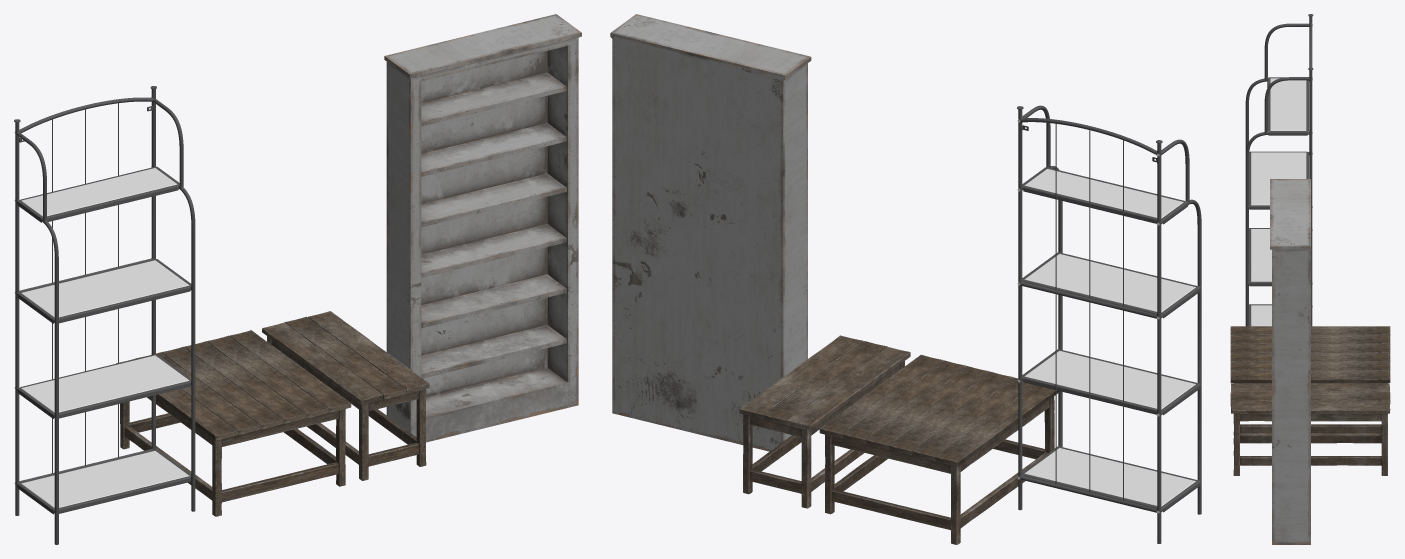
Rendered from Dottopuspornogang.fbx.
3 views of the same model, side by side, from view 1: azimuth 30°, elevation 25°; view 2: azimuth 150°, elevation 25°; view 3: azimuth 270°, elevation 25° (orthographic). The views are drawn at different scales.
Visible parts, largest first — view 1: Shelf_01, ikea_lacko_shelfframes, Wooden table.001, Wooden table; view 2: Shelf_01, ikea_lacko_shelfframes, Wooden table.001, Wooden table; view 3: Shelf_01, ikea_lacko_shelfframes, Wooden table.001, Wooden table.
Boxes of the visible parts, x1,y1,x2,y2 form: Shelf_01: (384, 14, 581, 442); ikea_lacko_shelfframes: (14, 86, 195, 544); Wooden table.001: (116, 330, 351, 516); Wooden table: (262, 311, 429, 480); Shelf_01: (610, 14, 811, 451); ikea_lacko_shelfframes: (1017, 105, 1201, 543); Wooden table.001: (819, 355, 1058, 544); Wooden table: (739, 335, 910, 508); Shelf_01: (1270, 179, 1310, 544); ikea_lacko_shelfframes: (1245, 14, 1313, 326); Wooden table.001: (1230, 326, 1390, 443); Wooden table: (1230, 383, 1390, 475).
Size of the model in its own units: 499 by 350 by 159.
